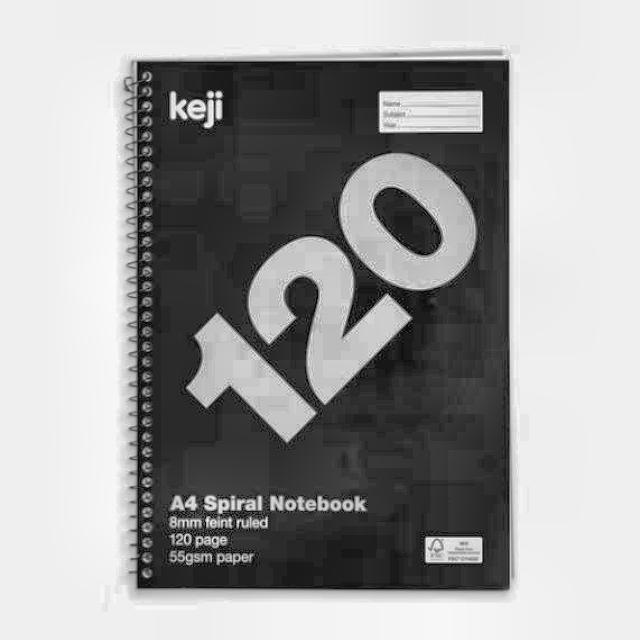Notebook: (104, 43, 540, 616)
